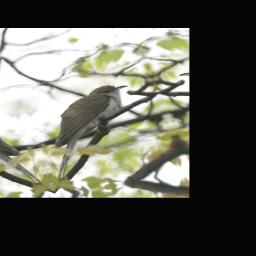Cuckoo: (27, 81, 157, 182)
